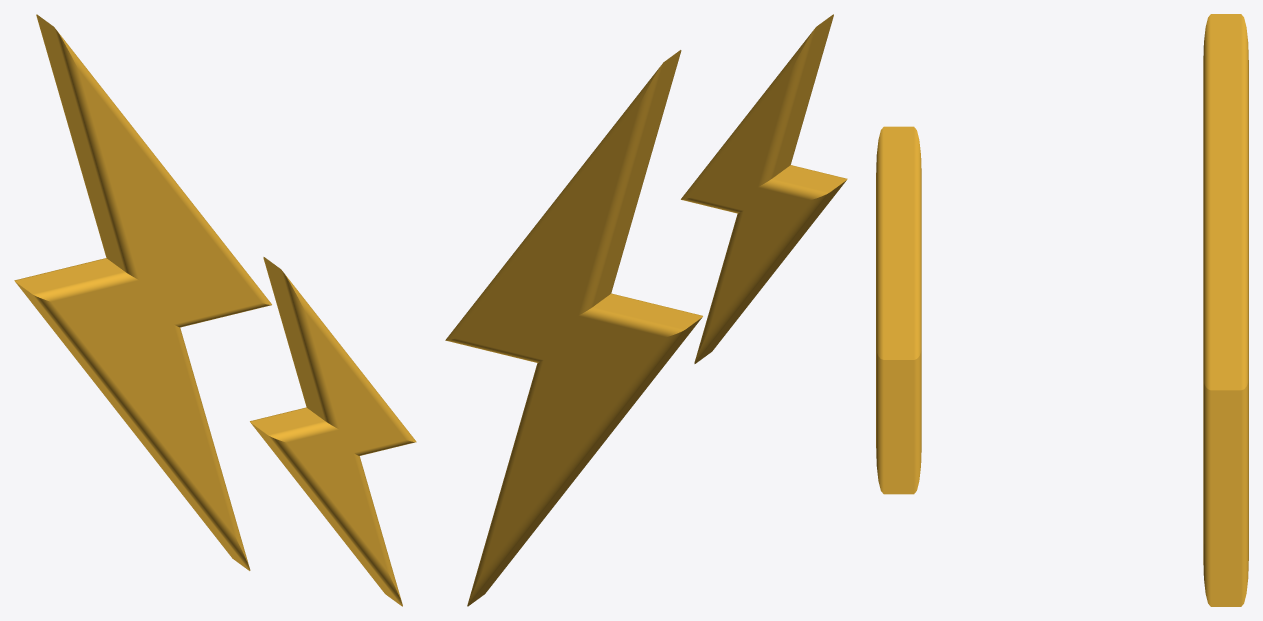
The model's file is FG_BoltEdge.fbx.
The picture shows the model from 3 angles, left to right: view 1: azimuth 30°, elevation 25°; view 2: azimuth 150°, elevation 25°; view 3: azimuth 270°, elevation 25°; orthographic projection. The views are drawn at different scales.
Parts seen in each view (by area): view 1: FG_BoltEdge; view 2: FG_BoltEdge; view 3: FG_BoltEdge.
Boxes of the visible parts, box(x1,y1,x2,y2) form: FG_BoltEdge: box(14, 14, 416, 606); FG_BoltEdge: box(445, 14, 847, 606); FG_BoltEdge: box(876, 14, 1248, 606).
Bounding box in the file's own units: 2.2 × 5.2 × 3.44.
